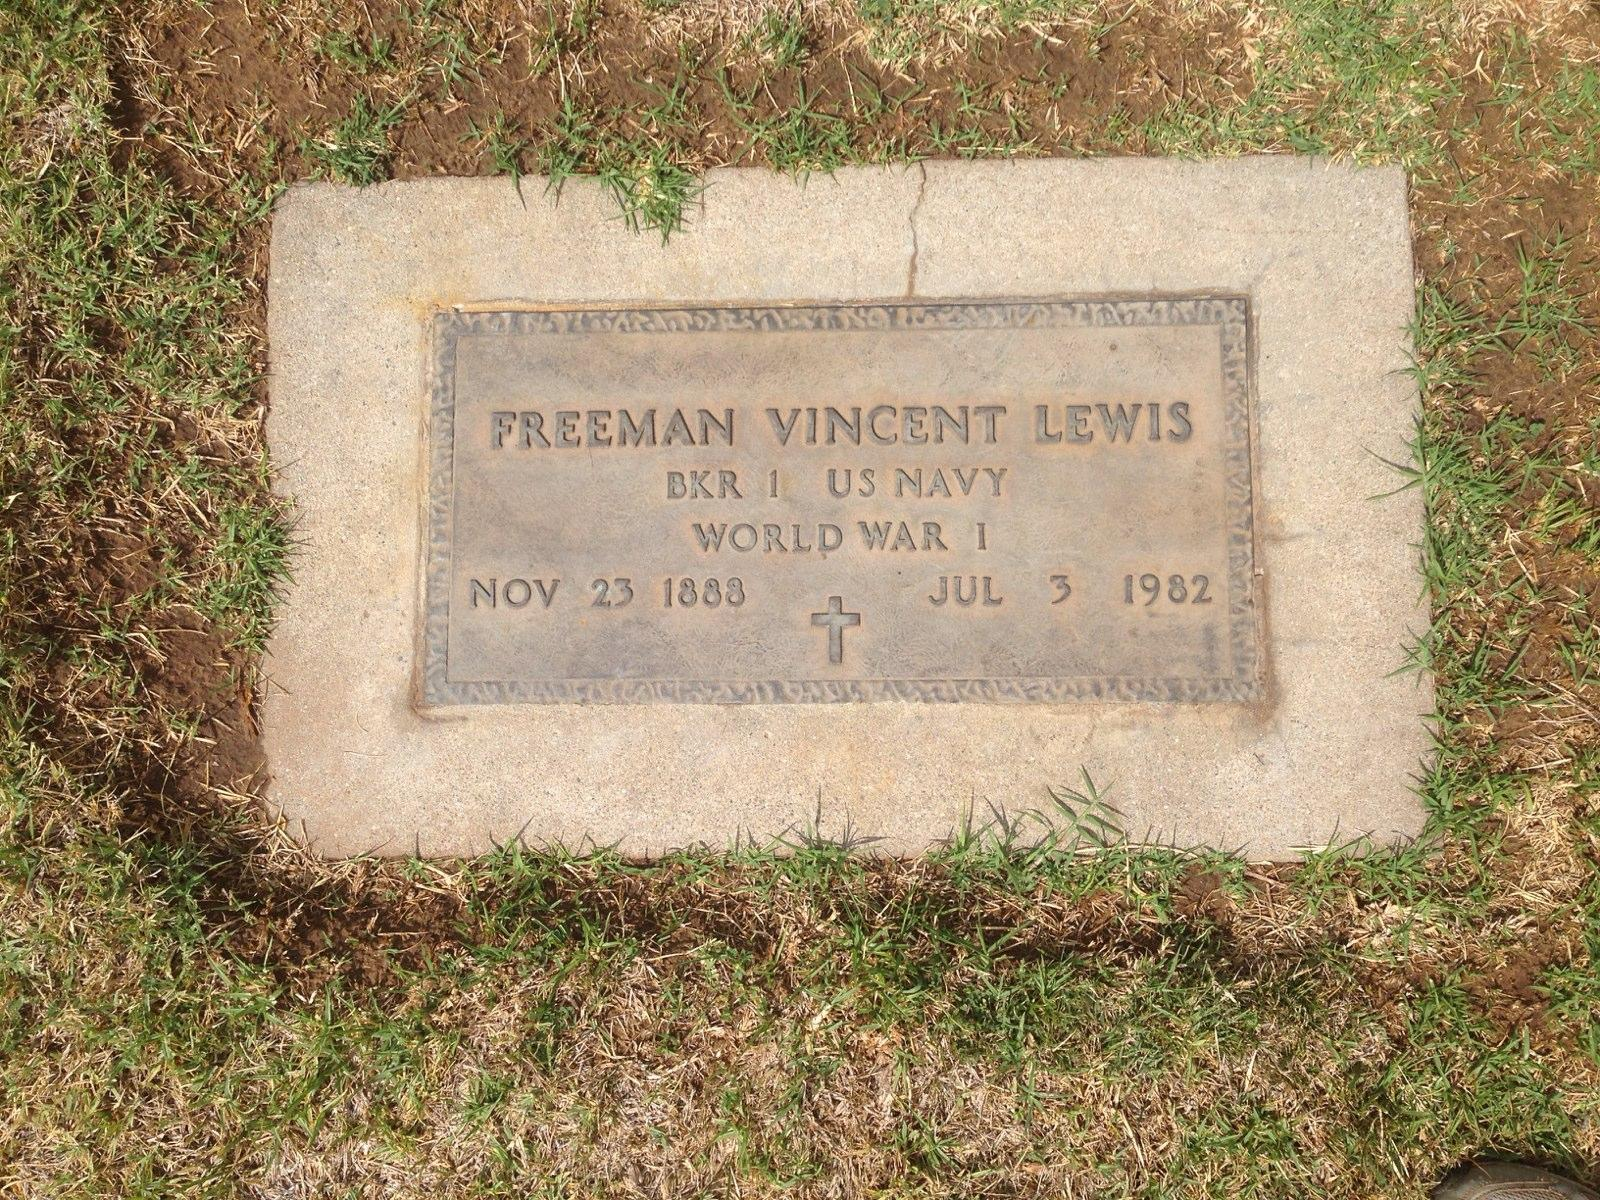flat: (421, 291, 1277, 711)
